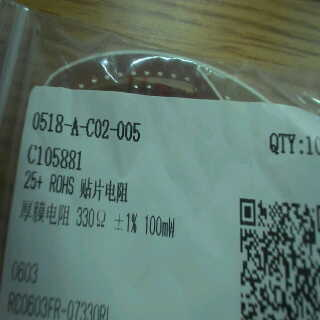330R: (74, 204, 108, 230)
